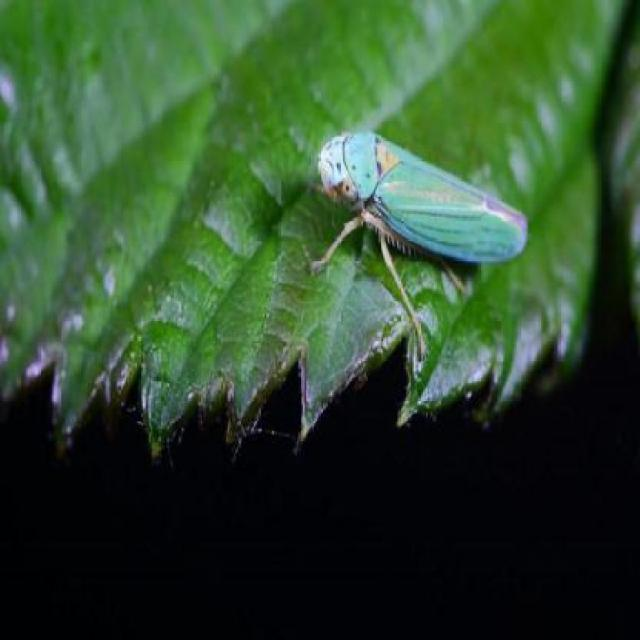green-leafhopper: (311, 123, 531, 337)
